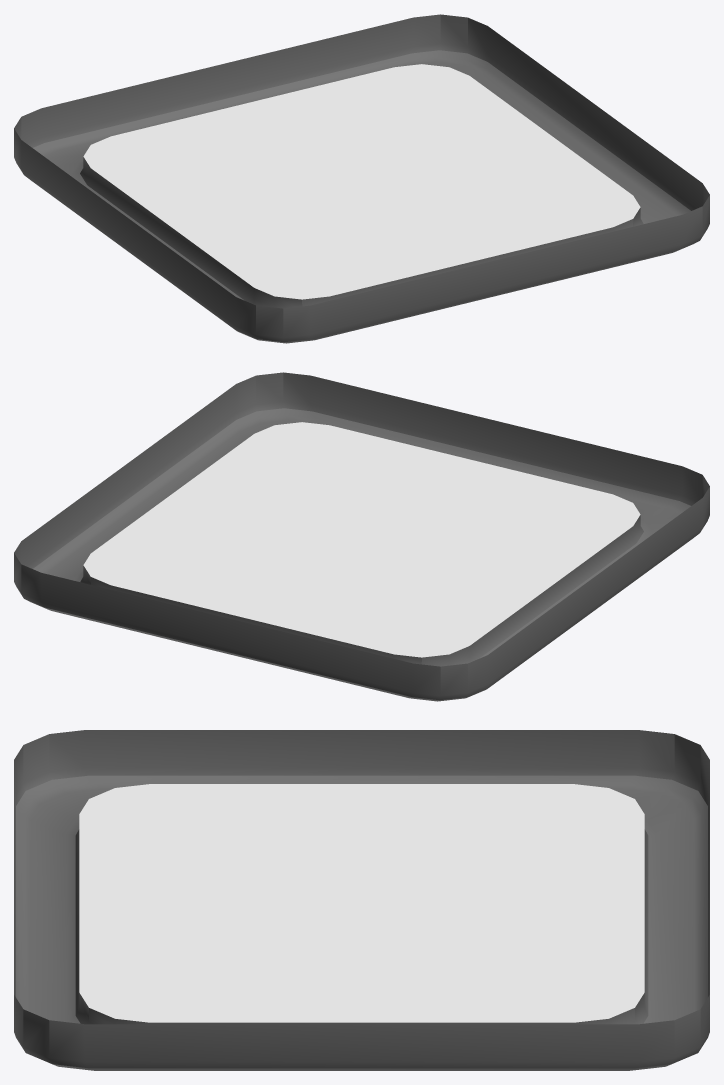
Rendered from Light.fbx.
3 renders of one model, top to bottom at view 1: azimuth 30°, elevation 25°; view 2: azimuth 150°, elevation 25°; view 3: azimuth 270°, elevation 25°, orthographic. The views are drawn at different scales.
Parts seen in each view (by area): view 1: Light; view 2: Light; view 3: Light.
Part boxes in pixels (x1,y1,x2,y2): Light: [14, 14, 709, 343]; Light: [14, 372, 709, 701]; Light: [14, 730, 709, 1070].
Size of the model in its own units: 75.15 by 6.18 by 75.15.
